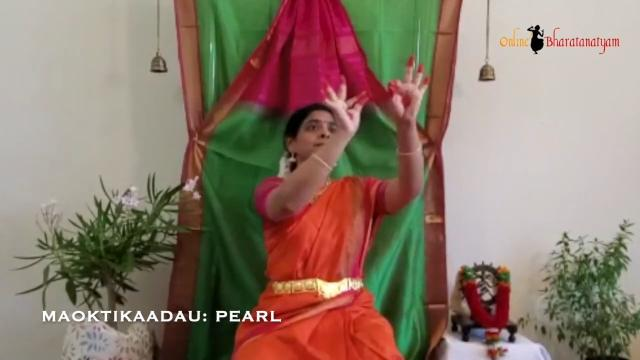hansaasya: (373, 42, 445, 130), (300, 60, 374, 134)
